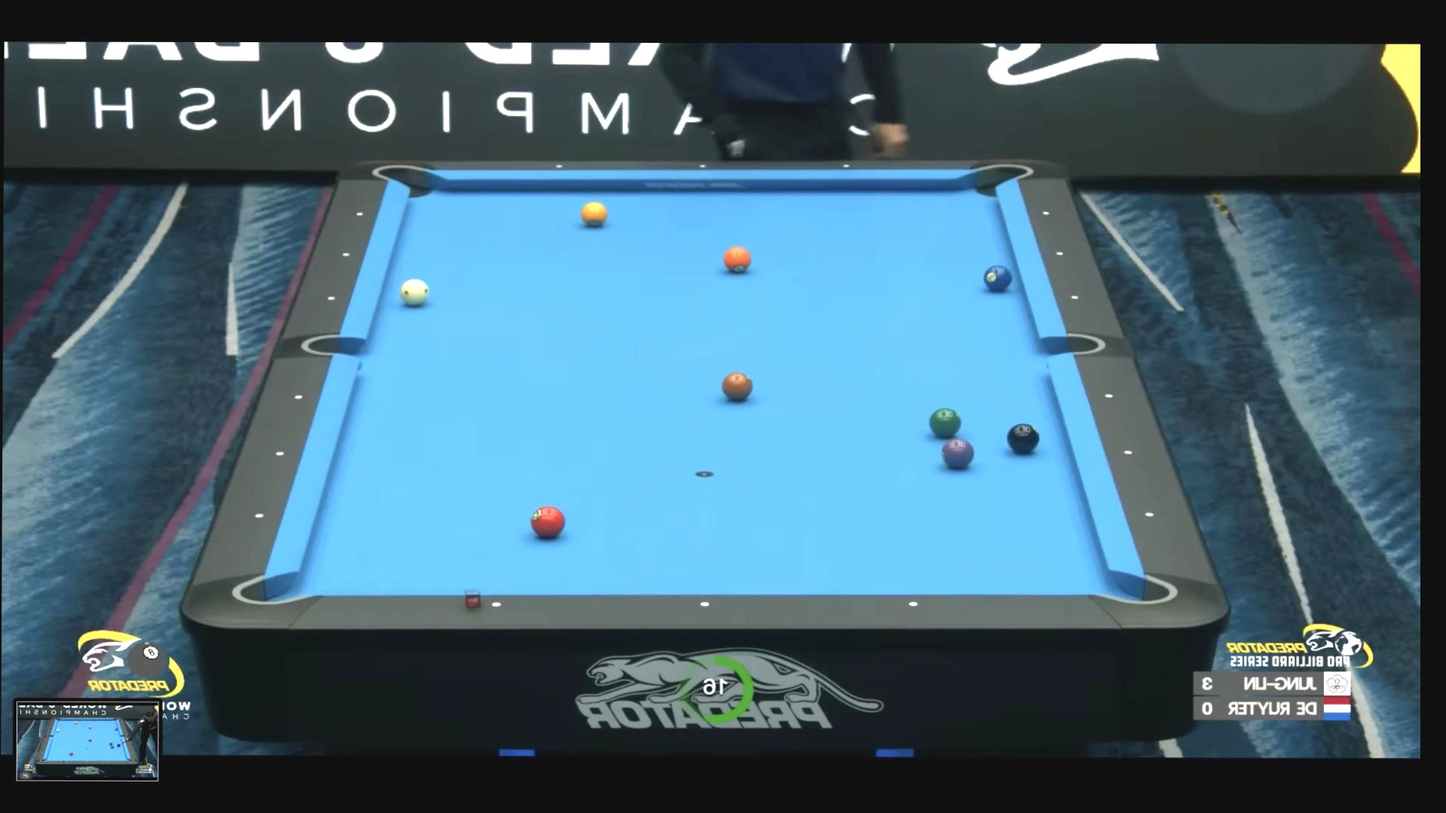Black: (1006, 423, 1040, 454)
Cue: (399, 279, 429, 306)
Solid: (698, 599, 711, 611), (490, 600, 503, 612), (908, 599, 920, 611), (253, 510, 266, 521), (1054, 249, 1065, 260), (1041, 207, 1052, 218), (274, 449, 286, 459), (293, 392, 305, 402), (1144, 510, 1155, 520), (1123, 448, 1134, 458), (1104, 391, 1115, 401), (1070, 292, 1081, 302), (355, 209, 364, 218), (327, 294, 336, 302), (342, 251, 351, 259), (842, 162, 851, 170), (698, 163, 707, 171), (554, 162, 562, 170)
Striped: (530, 506, 565, 538), (929, 407, 962, 437), (941, 438, 975, 467), (722, 371, 753, 400), (983, 265, 1013, 291), (724, 246, 752, 273), (580, 202, 608, 226)
